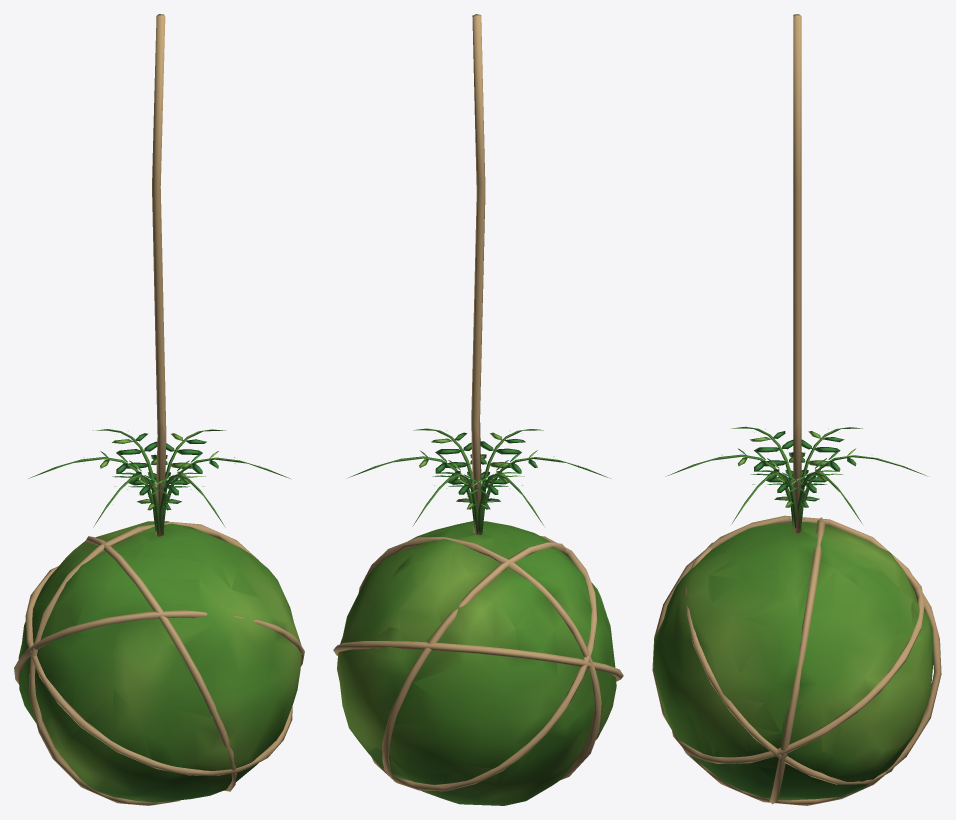
The model's file is canopy_kokedama_lod1.glb.
3 views of the same model, side by side, from view 1: azimuth 30°, elevation 25°; view 2: azimuth 150°, elevation 25°; view 3: azimuth 270°, elevation 25° (orthographic).
Parts seen in each view (by area): view 1: canopy_kokedama.001; view 2: canopy_kokedama.001; view 3: canopy_kokedama.001.
Part boxes in pixels (x1=…): canopy_kokedama.001: x1=14, y1=14, x2=304, y2=805; canopy_kokedama.001: x1=333, y1=14, x2=623, y2=805; canopy_kokedama.001: x1=652, y1=14, x2=941, y2=805.
Size of the model in its own units: 4.98 by 14.66 by 4.95.
